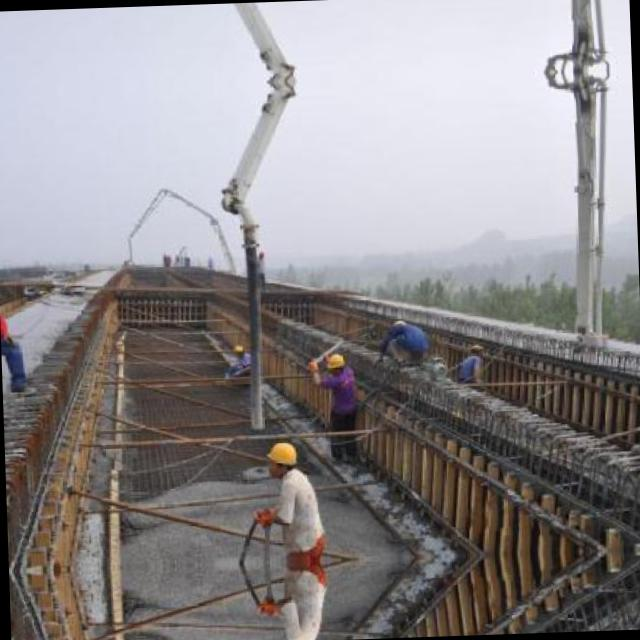helmet: (262, 441, 300, 479), (326, 350, 348, 378), (230, 342, 246, 358)
